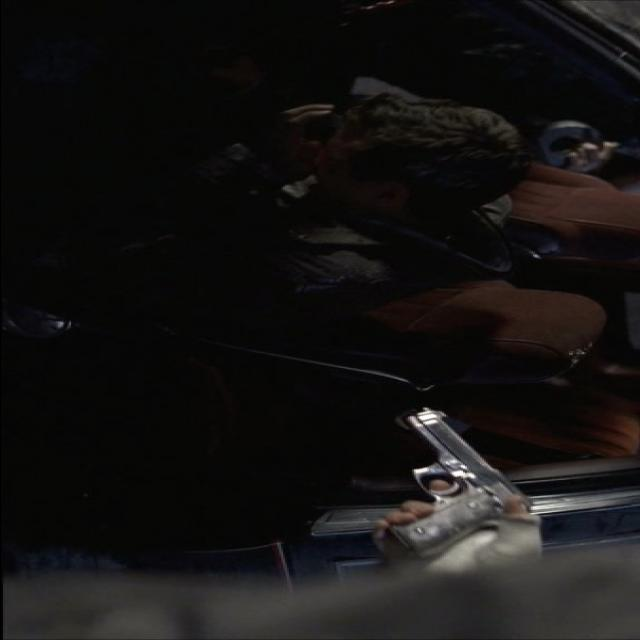weapons: (359, 399, 564, 555)
